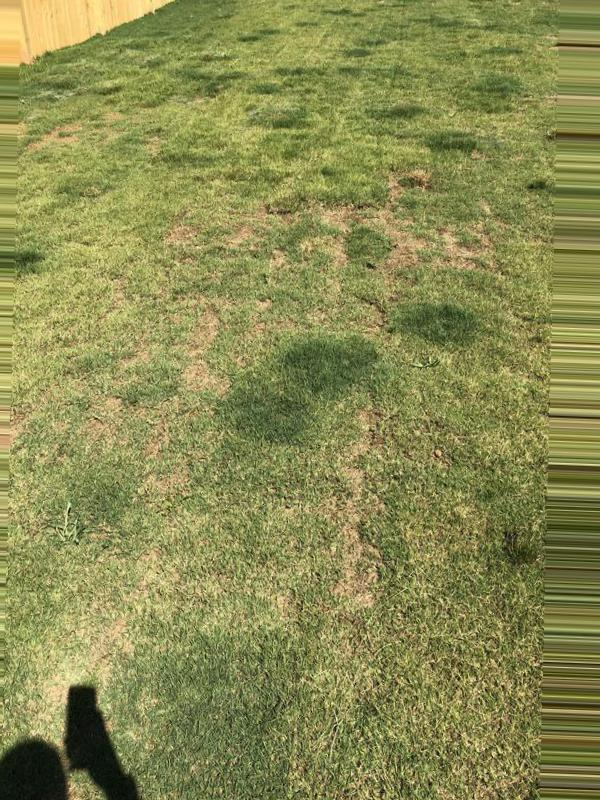patch: (128, 472, 366, 597), (222, 174, 501, 277), (33, 322, 225, 467), (38, 109, 168, 154)
